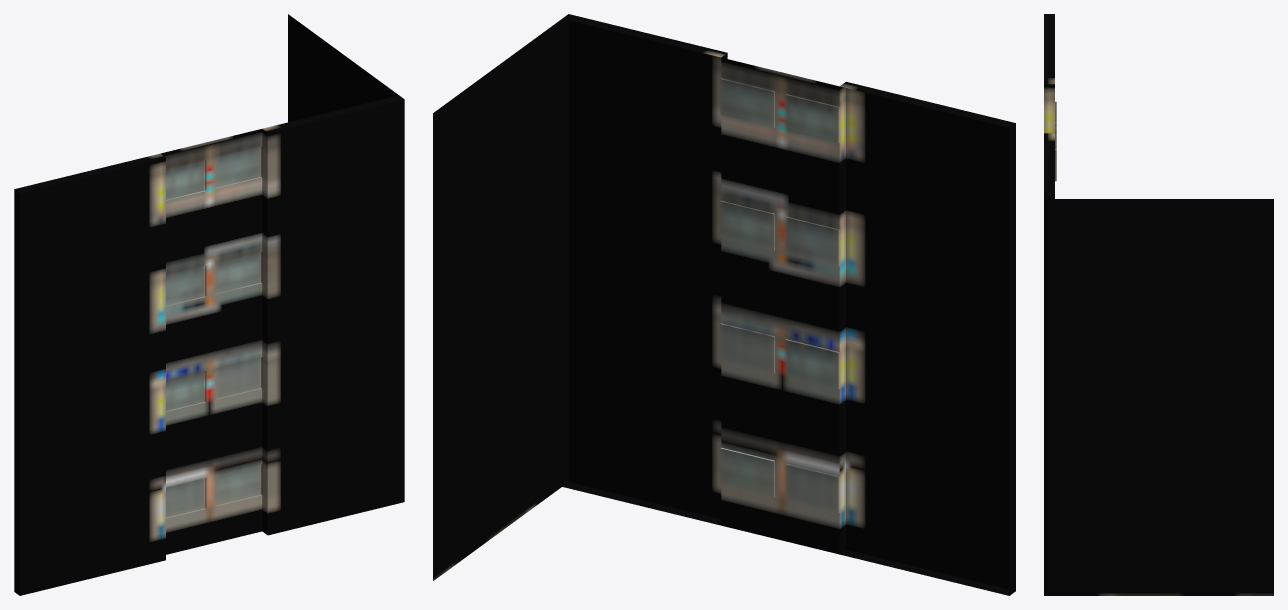
Rendered from Pagoda_Body_Tile_Corner_2500x2500_A.FBX.
The picture shows the model from 3 angles, left to right: view 1: azimuth 30°, elevation 25°; view 2: azimuth 150°, elevation 25°; view 3: azimuth 270°, elevation 25°; orthographic projection. The views are drawn at different scales.
Visible parts, largest first — view 1: Geometry_Pagoda_Body_Tile_Corner_2500x2500_A_LOD00; view 2: Geometry_Pagoda_Body_Tile_Corner_2500x2500_A_LOD00; view 3: Geometry_Pagoda_Body_Tile_Corner_2500x2500_A_LOD00.
Part boxes in pixels (bbox=[...]): Geometry_Pagoda_Body_Tile_Corner_2500x2500_A_LOD00: bbox=[14, 14, 404, 595]; Geometry_Pagoda_Body_Tile_Corner_2500x2500_A_LOD00: bbox=[433, 14, 1015, 595]; Geometry_Pagoda_Body_Tile_Corner_2500x2500_A_LOD00: bbox=[1044, 14, 1273, 595].
Size of what is drawn, in the model's own units: 2500 by 2500 by 1313.
